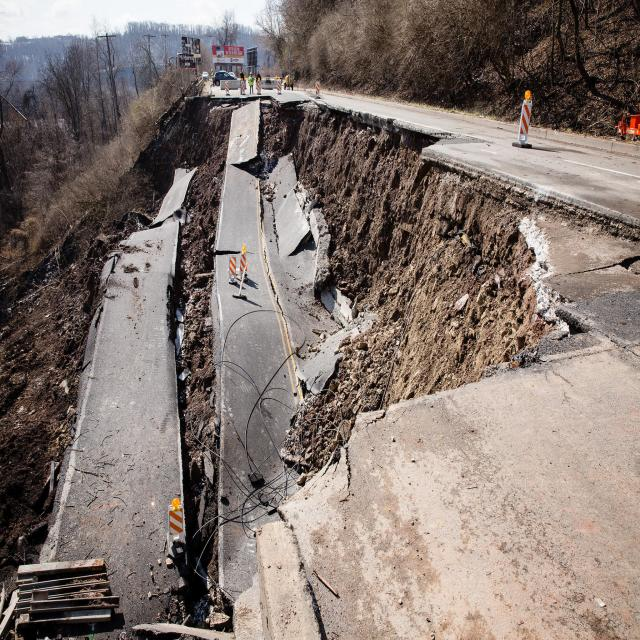landSliding: (138, 111, 628, 585)
